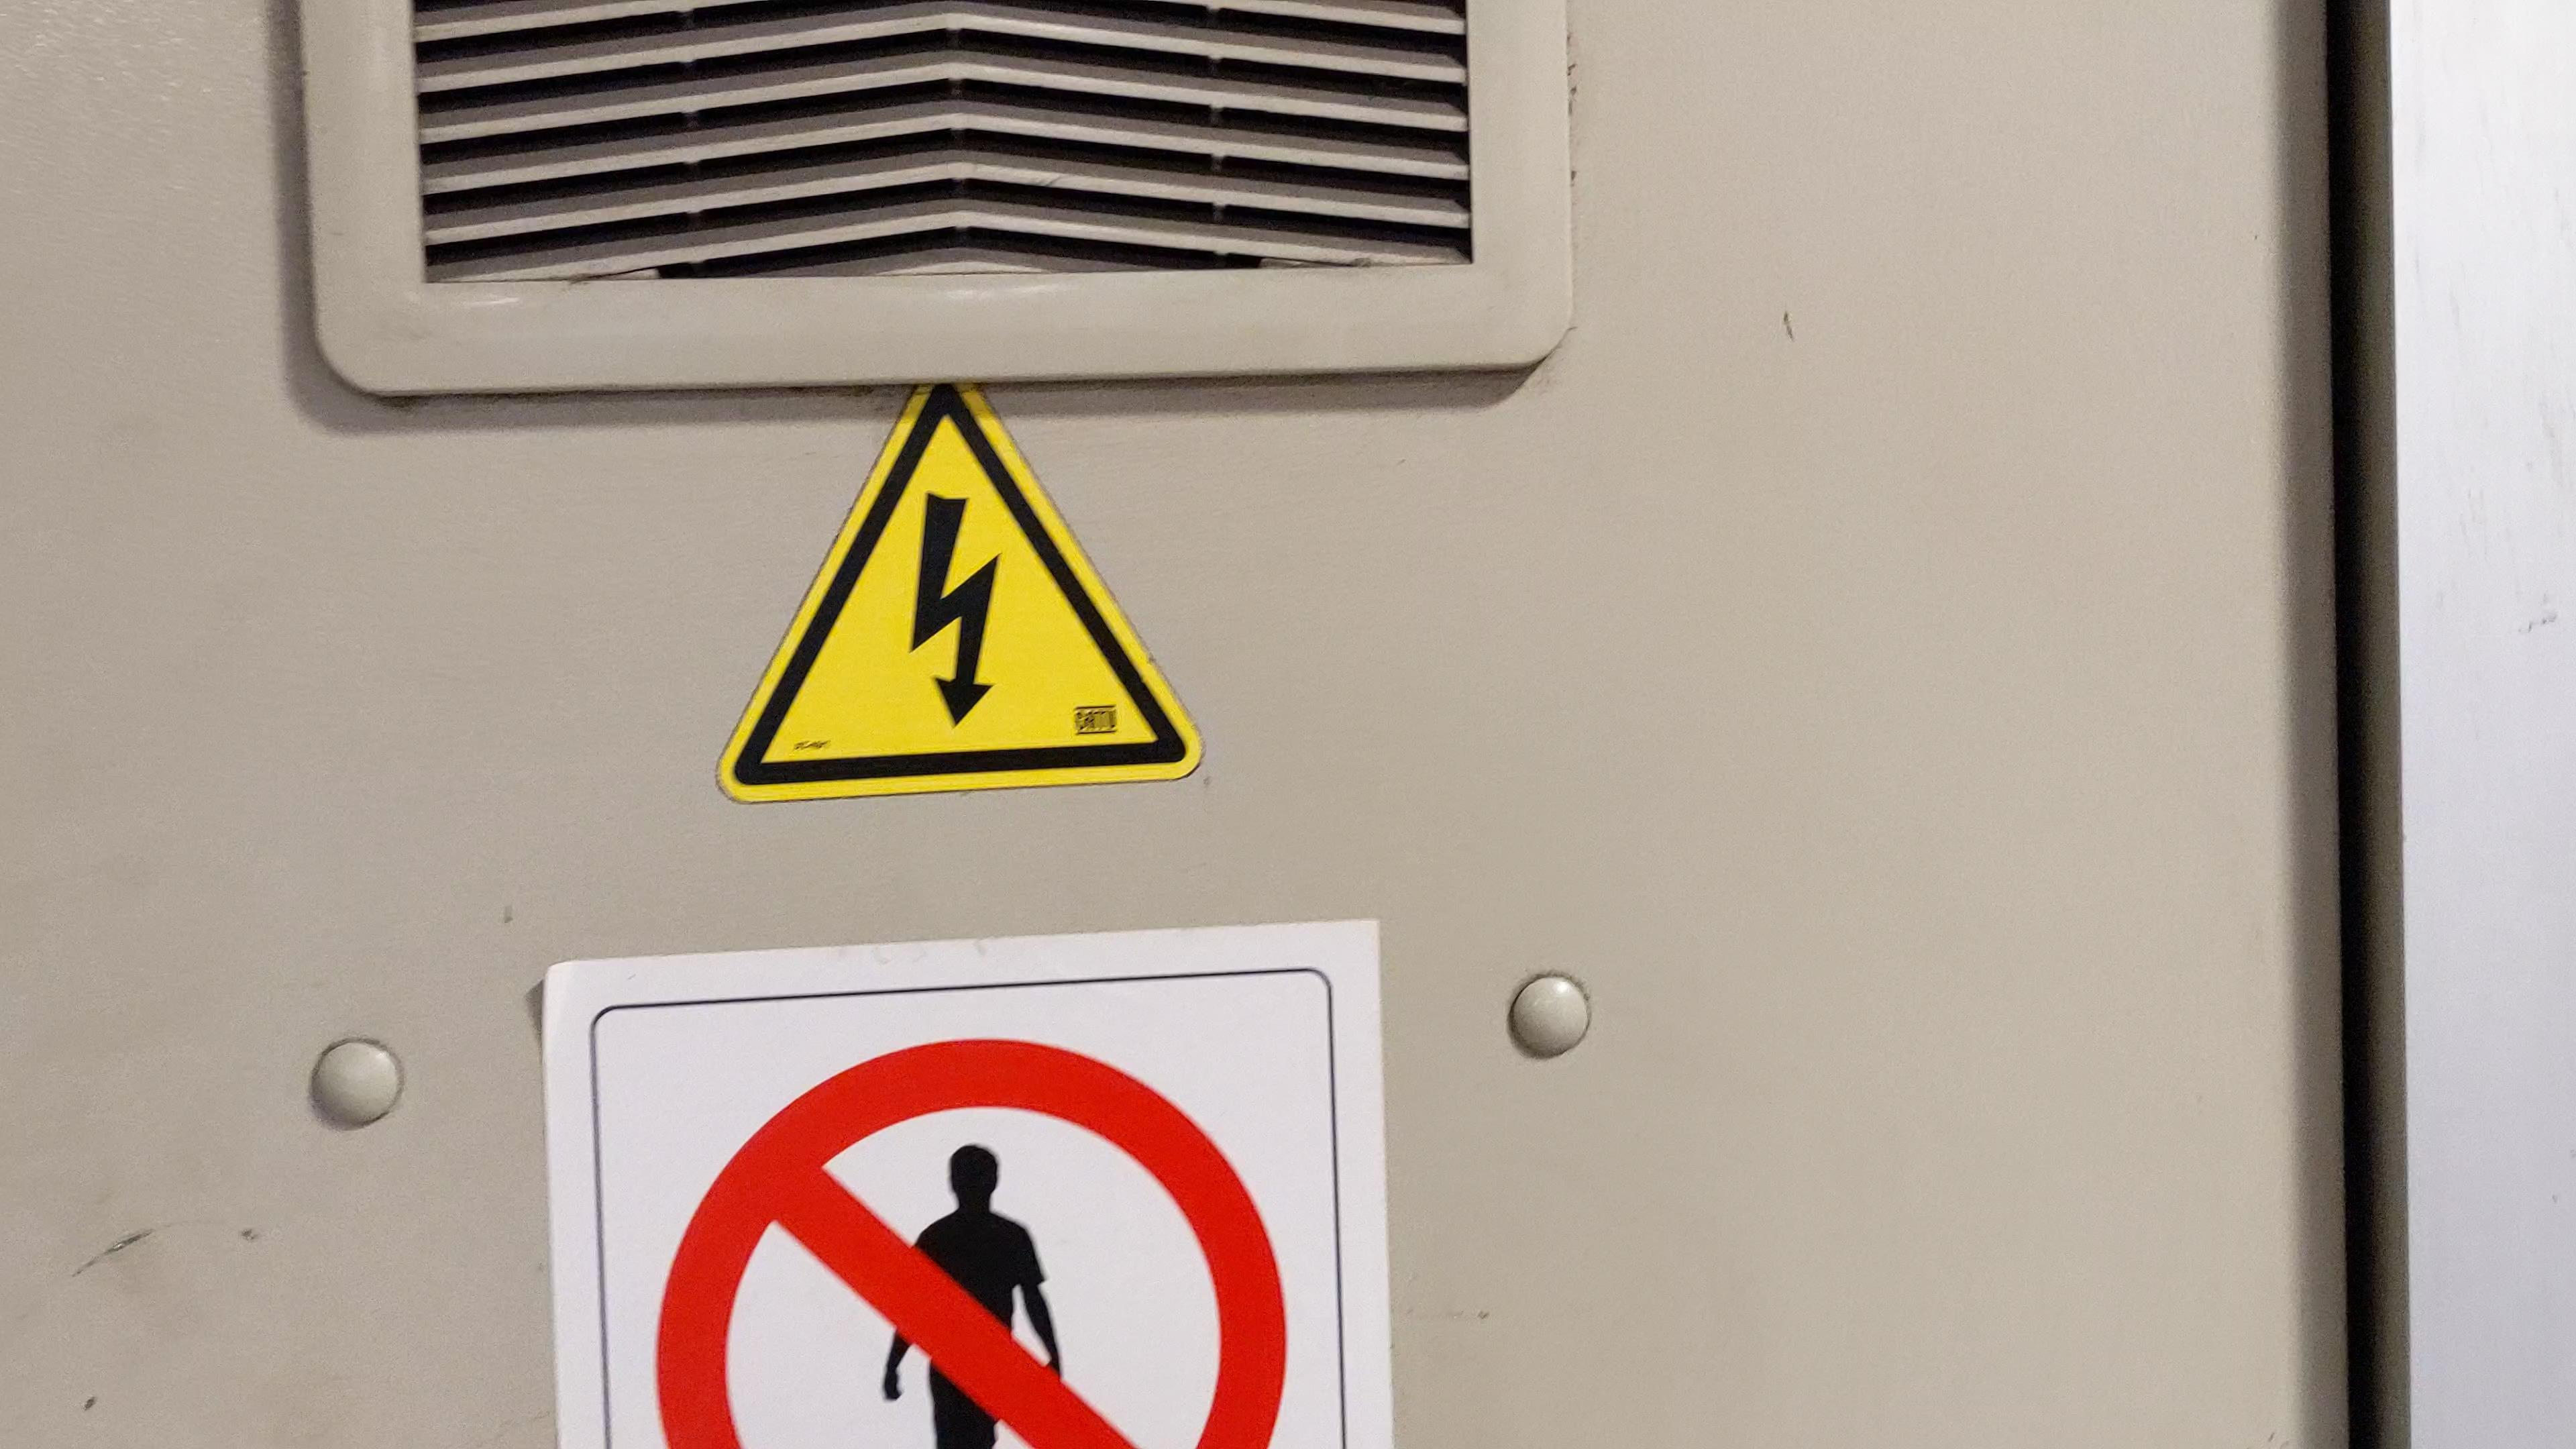danger-electricity: (711, 373, 1203, 810)
